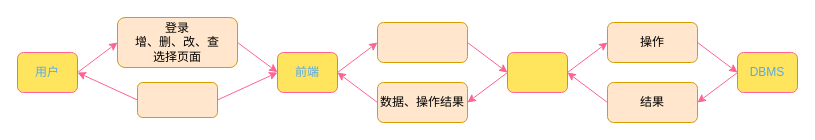
The diagram is 815 pixels wide and 140 high, and some of its shapes have lost their labels. The shapes that lost their labels are listed below. From the top down, each one's centre as x and y in pixels, then its label:
At [422,42]: "Request：GET/POST".
At [537,72]: "服务器".
At [177,100]: "页面显示".
